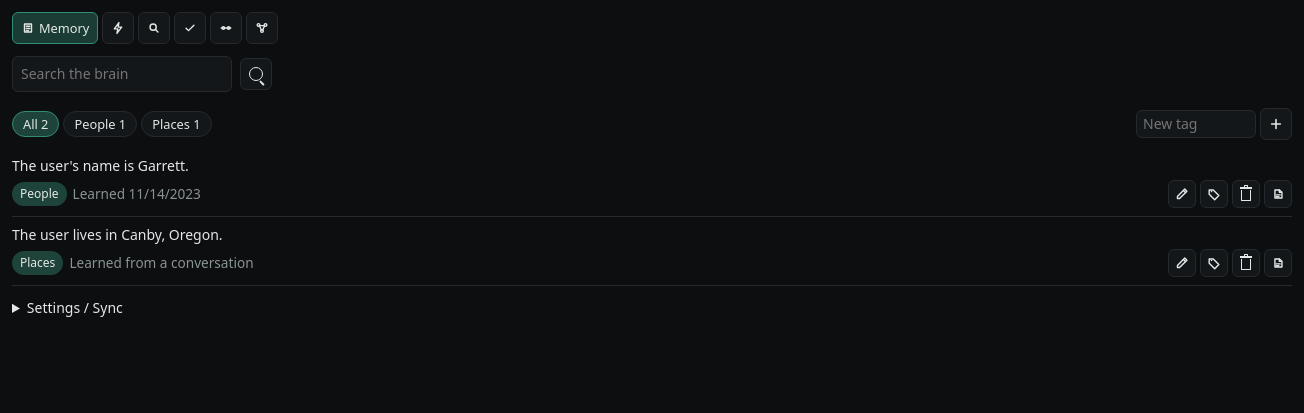
Test: BrainMapView › keeps tag rename controls out of the page until a tag is picked and Edit tag is opened
The image size is (1304, 413).
Expected: the text "The user's name is Garrett." is shown, [12,156,189,175]
Click the button "People 1": (100, 124) [63,111,137,137]
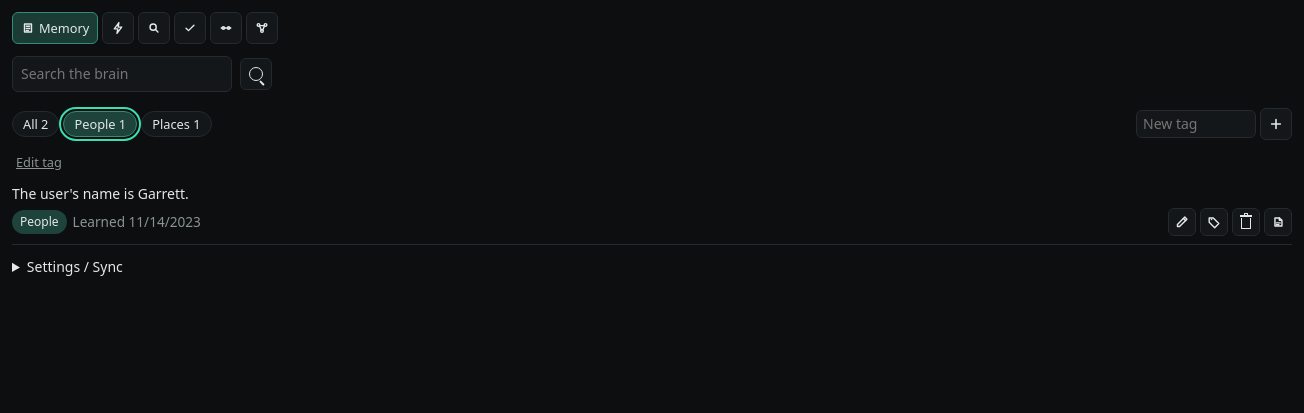
Click the button with aria-label "Edit tag People": (39, 162) [12,148,66,176]
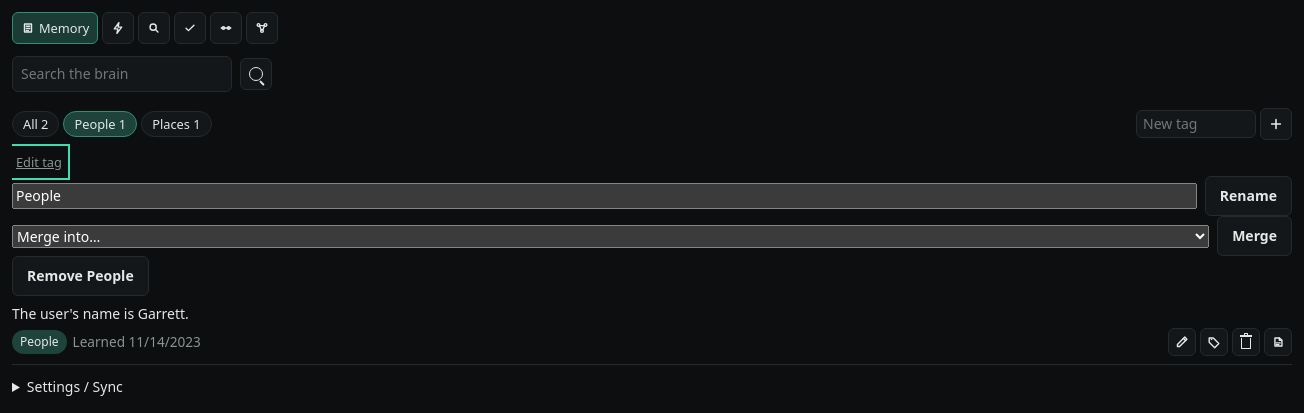
Expected: the field named "Rename People" is shown, [12,183,1197,209]
